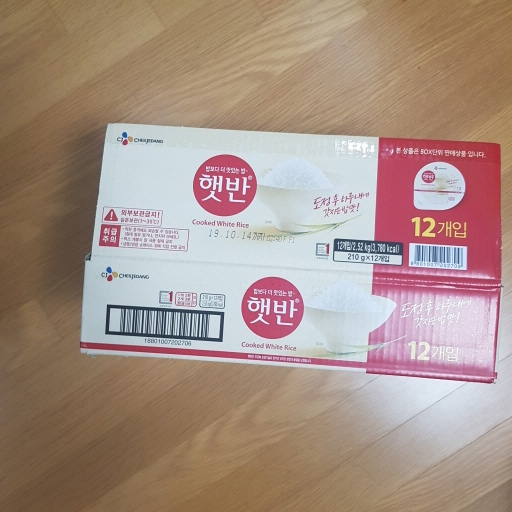Paper_0: (75, 115, 505, 392)
